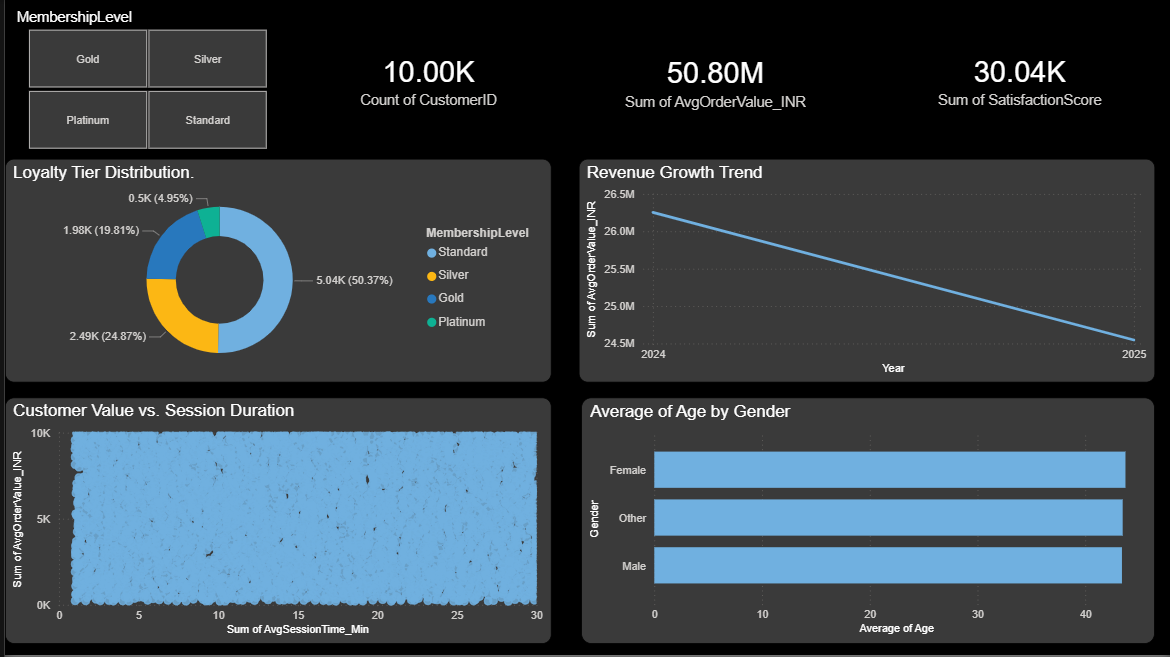

Layout of this report page (visuals, bound fields, positions):
{"tool":"powerbi","page":{"name":"Page 1","canvas":[1280,720],"ordinal":0},"visuals":[{"type":"card","fields":{"Values":["CountNonNull(customer_behaviour_dataset.CustomerID)"]},"box":[330.7,0,269,174.3],"z":0},{"type":"card","fields":{"Values":["Sum(customer_behaviour_dataset.AvgOrderValue_INR)"]},"box":[612,1.4,336.2,174.3],"z":1000},{"type":"card","fields":{"Values":["Sum(customer_behaviour_dataset.SatisfactionScore)"]},"box":[948.2,0,332.1,174.3],"z":2000},{"type":"donutChart","title":"Loyalty Tier Distribution.","fields":{"Y":["CountNonNull(customer_behaviour_dataset.CustomerID)"],"Category":["customer_behaviour_dataset.MembershipLevel"]},"box":[0,174.3,599.7,245.6],"z":3000},{"type":"lineChart","title":"Revenue Growth Trend","fields":{"Category":["customer_behaviour_dataset.LastPurchaseDate.Variation.Date Hierarchy.Year","customer_behaviour_dataset.LastPurchaseDate.Variation.Date Hierarchy.Quarter","customer_behaviour_dataset.LastPurchaseDate.Variation.Date Hierarchy.Month","customer_behaviour_dataset.LastPurchaseDate.Variation.Date Hierarchy.Day"],"Y":["Sum(customer_behaviour_dataset.AvgOrderValue_INR)"]},"box":[629.8,174.3,632.6,245.6],"z":4000},{"type":"scatterChart","title":"Customer Value vs. Session Duration","fields":{"X":["Sum(customer_behaviour_dataset.AvgSessionTime_Min)"],"Y":["Sum(customer_behaviour_dataset.AvgOrderValue_INR)"],"Category":["customer_behaviour_dataset.CustomerID"]},"box":[0,436.4,599.7,270.3],"z":5000},{"type":"clusteredBarChart","fields":{"Y":["Avg(customer_behaviour_dataset.Age)"],"Category":["customer_behaviour_dataset.Gender"]},"box":[632.6,436.4,629.8,270.3],"z":5001},{"type":"slicer","fields":{"Values":["customer_behaviour_dataset.MembershipLevel"]},"box":[0,5.5,311.5,164.7],"z":5002}]}

Visuals, with their boxes in screenshot pixels (x1, y1, x2, y2), scaled from the page's 1280x720 canvas onto the 1170x657 screenshot:
card - CountNonNull(customer_behaviour_dataset.CustomerID): [left=302, top=0, right=548, bottom=159]
card - Sum(customer_behaviour_dataset.AvgOrderValue_INR): [left=559, top=1, right=867, bottom=160]
card - Sum(customer_behaviour_dataset.SatisfactionScore): [left=867, top=0, right=1169, bottom=159]
"Loyalty Tier Distribution." donutChart: [left=0, top=159, right=548, bottom=383]
"Revenue Growth Trend" lineChart: [left=576, top=159, right=1154, bottom=383]
"Customer Value vs. Session Duration" scatterChart: [left=0, top=398, right=548, bottom=645]
clusteredBarChart - Avg(customer_behaviour_dataset.Age) x customer_behaviour_dataset.Gender: [left=578, top=398, right=1154, bottom=645]
slicer - customer_behaviour_dataset.MembershipLevel: [left=0, top=5, right=285, bottom=155]
